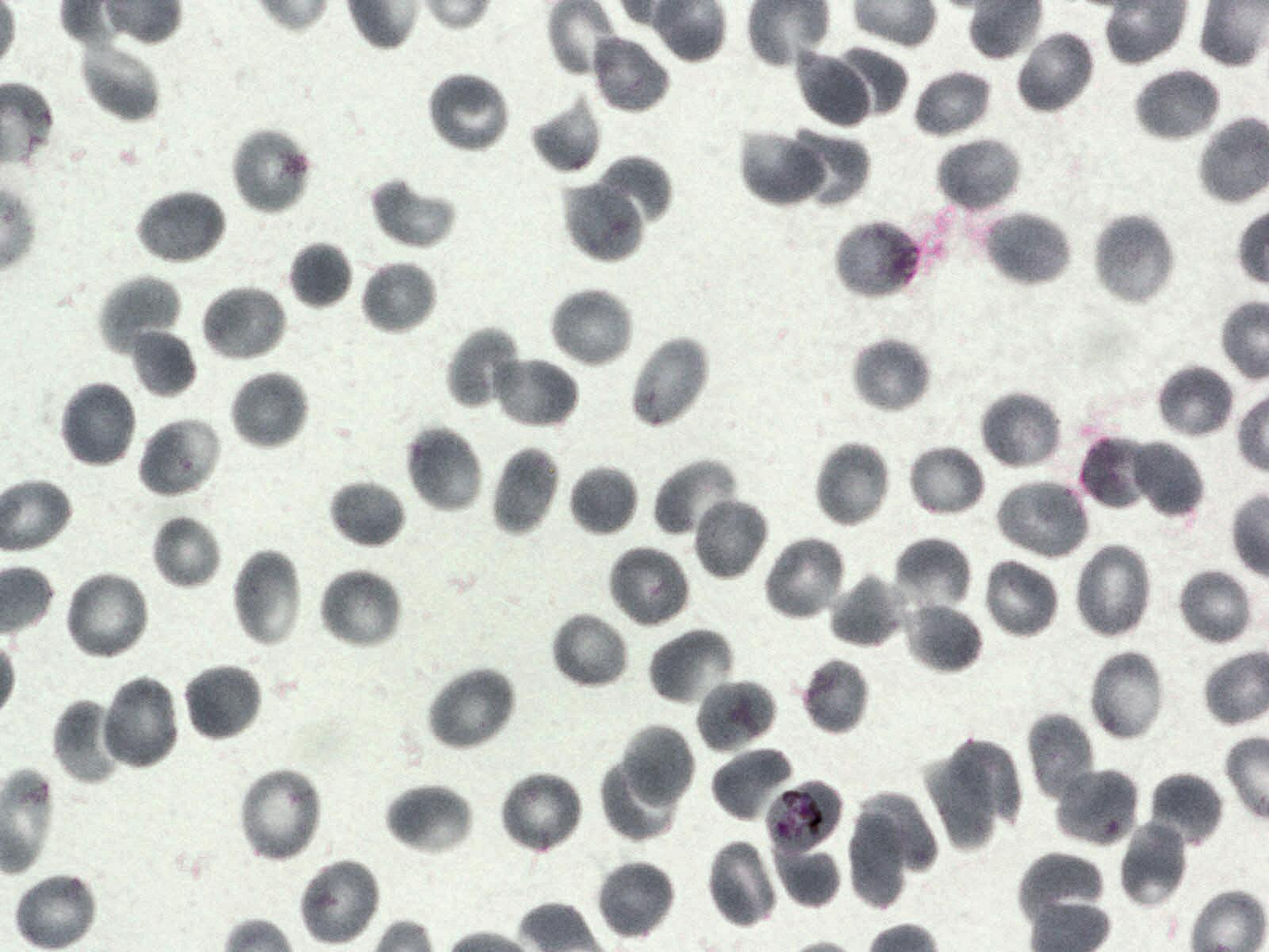Infected: (769, 780, 845, 857)
Uninfected: (425, 665, 519, 756), (237, 767, 324, 865), (1015, 850, 1109, 936), (297, 856, 382, 950), (994, 478, 1089, 562), (627, 334, 711, 429), (1073, 543, 1155, 640), (64, 570, 151, 661), (1092, 213, 1175, 308), (1088, 648, 1170, 743), (101, 674, 182, 770), (233, 547, 308, 649), (646, 627, 739, 709), (648, 459, 737, 544), (605, 544, 691, 631), (497, 770, 585, 855), (891, 606, 989, 682), (137, 415, 224, 500), (764, 535, 848, 623), (377, 782, 478, 855), (426, 71, 512, 156), (404, 426, 485, 516), (738, 122, 823, 207), (886, 539, 971, 624), (136, 190, 227, 268), (1145, 774, 1229, 858), (318, 569, 403, 652), (934, 135, 1020, 217), (1051, 766, 1138, 847), (232, 128, 312, 216), (1133, 67, 1222, 146), (813, 441, 892, 530), (834, 219, 926, 295), (94, 274, 178, 357), (549, 287, 634, 369), (979, 390, 1064, 472), (694, 680, 780, 761), (59, 381, 139, 468), (849, 335, 937, 414), (489, 353, 579, 430), (974, 558, 1058, 640), (691, 494, 769, 582), (588, 33, 670, 116), (712, 744, 797, 824), (202, 285, 288, 364), (229, 370, 311, 452), (50, 697, 123, 789), (980, 208, 1068, 284), (596, 859, 677, 941), (370, 173, 457, 249), (487, 450, 562, 538), (1018, 28, 1099, 109), (1118, 817, 1188, 910), (1175, 567, 1256, 647), (1156, 367, 1236, 447), (446, 325, 523, 408), (186, 665, 270, 741), (550, 612, 633, 688), (830, 569, 908, 649), (914, 68, 995, 145), (79, 39, 158, 117), (906, 443, 986, 520), (147, 512, 224, 592), (324, 476, 408, 549), (799, 658, 874, 739), (564, 185, 647, 258), (709, 839, 777, 928), (360, 257, 436, 336), (15, 877, 96, 951), (591, 155, 677, 223), (834, 40, 908, 118), (926, 758, 990, 847), (801, 49, 874, 127), (794, 125, 867, 202), (952, 742, 1022, 822), (626, 725, 691, 811), (602, 758, 671, 839), (1030, 715, 1094, 802), (534, 97, 609, 171), (865, 797, 939, 870), (767, 836, 844, 906), (843, 812, 903, 900), (278, 237, 353, 303), (1133, 446, 1203, 516), (1080, 440, 1153, 506), (567, 466, 631, 537), (128, 334, 197, 393)
